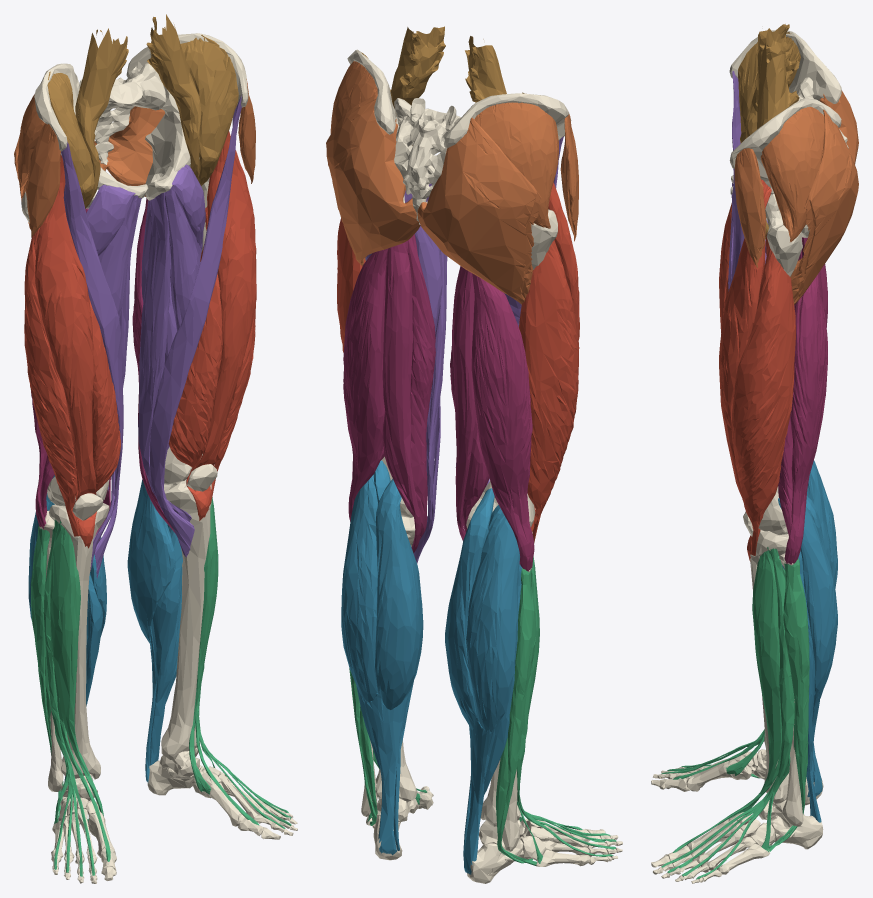
The model's file is legs.glb.
3 views of the same model, side by side, from view 1: azimuth 30°, elevation 25°; view 2: azimuth 150°, elevation 25°; view 3: azimuth 270°, elevation 25° (orthographic). The views are drawn at different scales.
Visible parts, largest first — view 1: quads, bones, adductors, shin, iliopsoas, calf, glutes, hamstrings; view 2: hamstrings, calf, glutes, bones, quads, shin, adductors, iliopsoas; view 3: quads, bones, glutes, shin, hamstrings, calf, iliopsoas, adductors.
Part boxes in pixels (bbox=[...]): quads: bbox=[24, 131, 256, 548]; bones: bbox=[21, 33, 297, 883]; adductors: bbox=[61, 95, 241, 578]; shin: bbox=[31, 497, 291, 876]; iliopsoas: bbox=[47, 14, 238, 208]; calf: bbox=[28, 475, 182, 782]; glutes: bbox=[14, 79, 255, 237]; hamstrings: bbox=[31, 198, 175, 540]; hamstrings: bbox=[343, 234, 534, 571]; calf: bbox=[341, 460, 522, 874]; glutes: bbox=[326, 61, 578, 304]; bones: bbox=[347, 49, 622, 883]; quads: bbox=[337, 182, 579, 543]; shin: bbox=[349, 556, 616, 865]; adductors: bbox=[365, 136, 563, 563]; iliopsoas: bbox=[361, 26, 524, 145]; quads: bbox=[719, 179, 795, 561]; bones: bbox=[651, 30, 848, 883]; glutes: bbox=[734, 90, 858, 304]; shin: bbox=[661, 547, 809, 879]; hamstrings: bbox=[778, 237, 827, 564]; calf: bbox=[778, 460, 837, 822]; iliopsoas: bbox=[738, 24, 800, 239]; adductors: bbox=[728, 71, 768, 291].
Bounding box in the file's own units: 0.339 × 1.08 × 0.2559.
